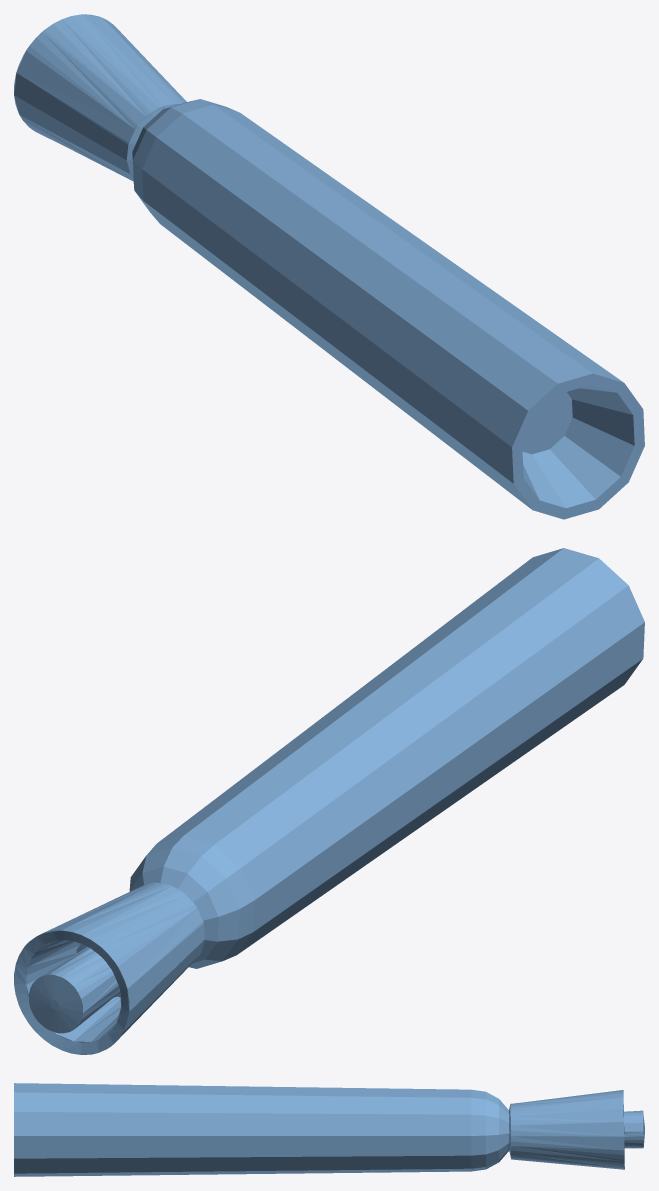
The model's file is pen2_4.dae.
The picture shows the model from 3 angles, top to bottom: view 1: azimuth 30°, elevation 25°; view 2: azimuth 150°, elevation 25°; view 3: azimuth 270°, elevation 25°; orthographic projection. The views are drawn at different scales.
Parts seen in each view (by area): view 1: pen2_019; view 2: pen2_019; view 3: pen2_019.
Part boxes in pixels (x1,y1,x2,y2): pen2_019: [14, 14, 644, 519]; pen2_019: [14, 548, 644, 1054]; pen2_019: [14, 1083, 644, 1176].
Size of the model in its own units: 0.038 by 0.2596 by 0.038.
